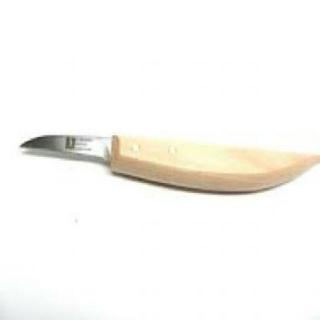knife: (0, 89, 113, 215)
